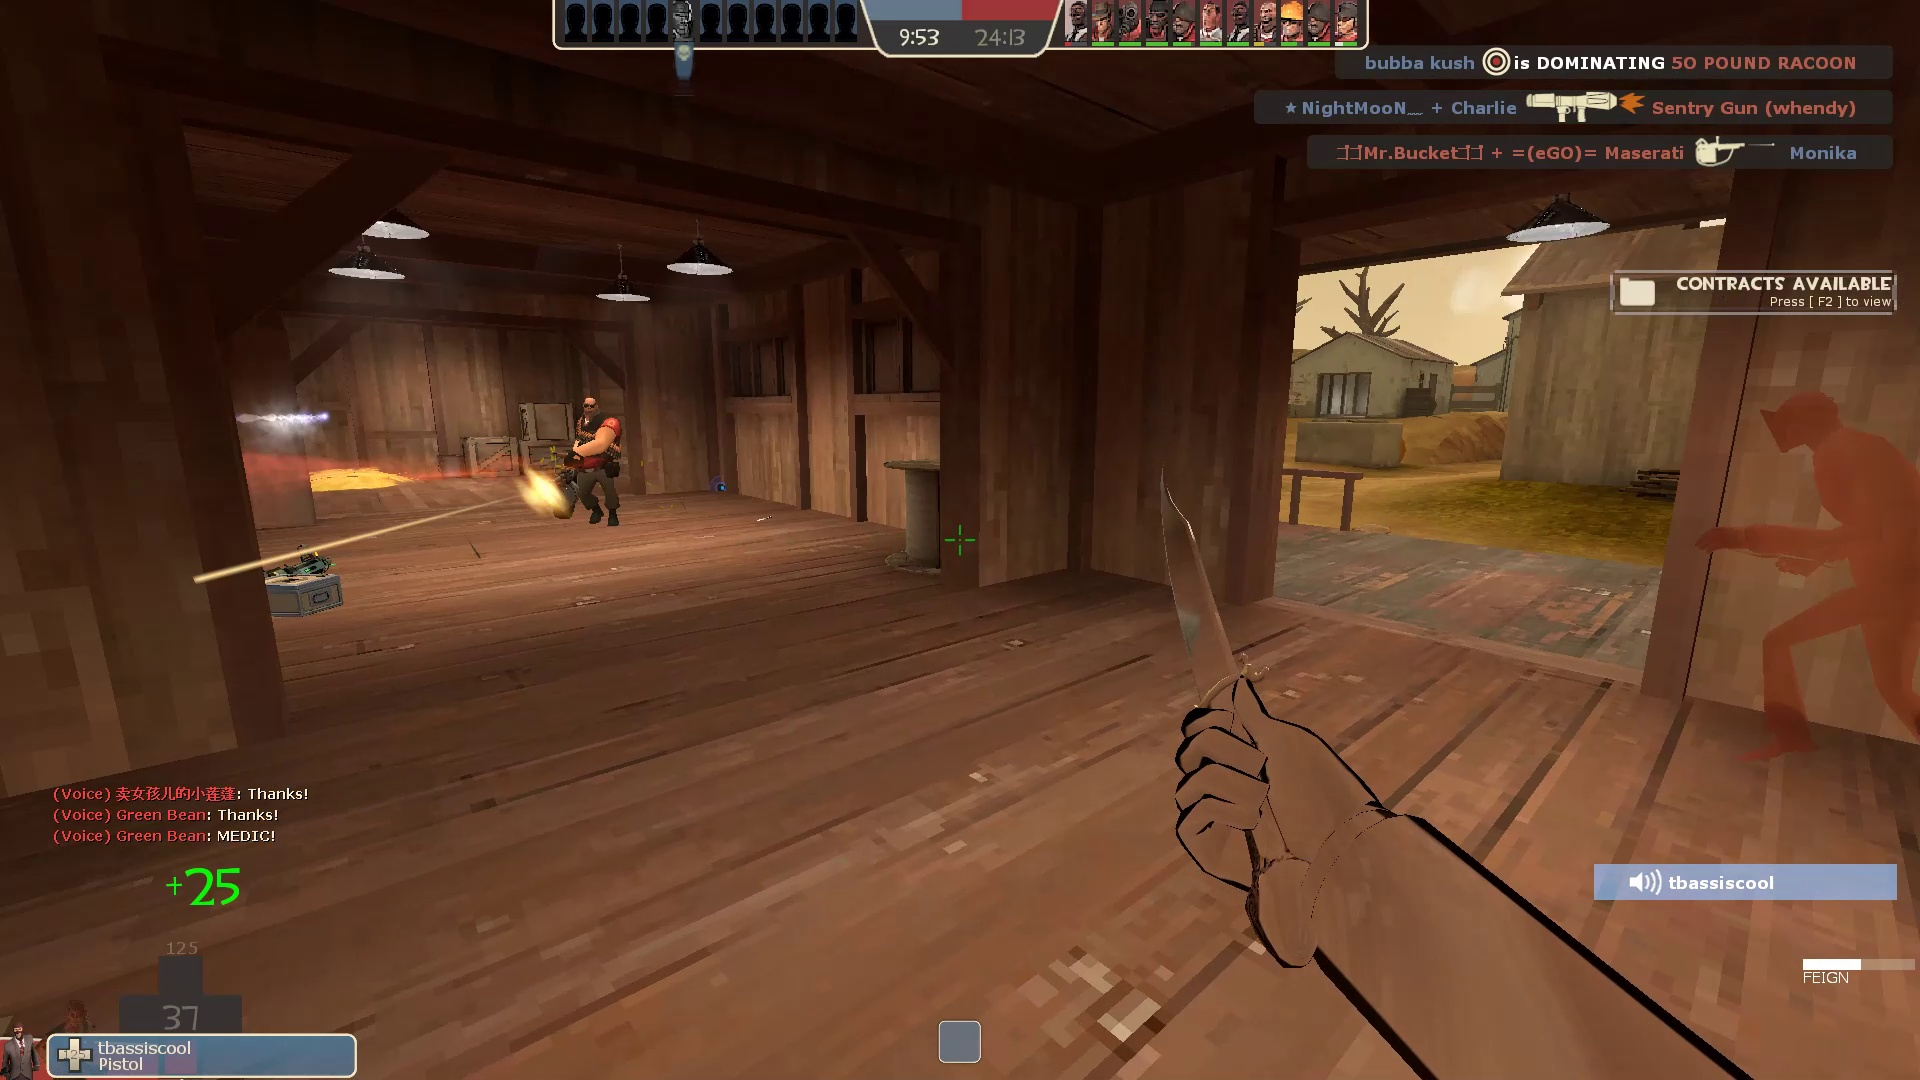red_heavy: (526, 388, 630, 539)
red_spy_invisible: (1683, 382, 1920, 789)
